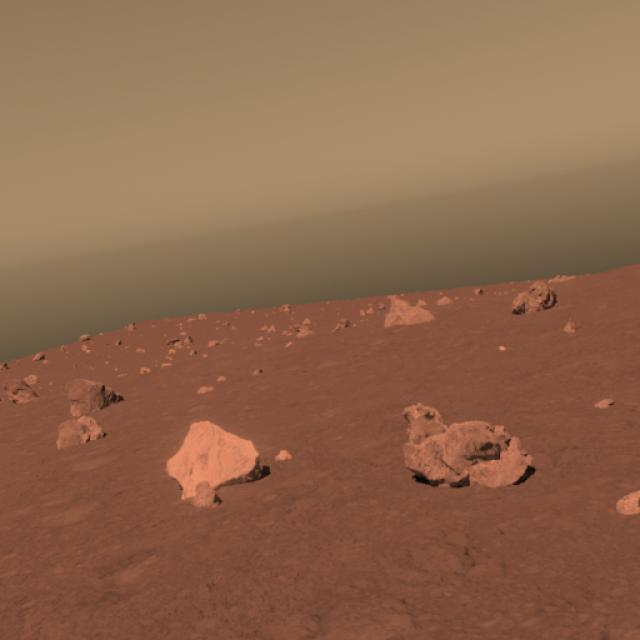rock: (397, 396, 535, 492), (163, 418, 259, 502)
